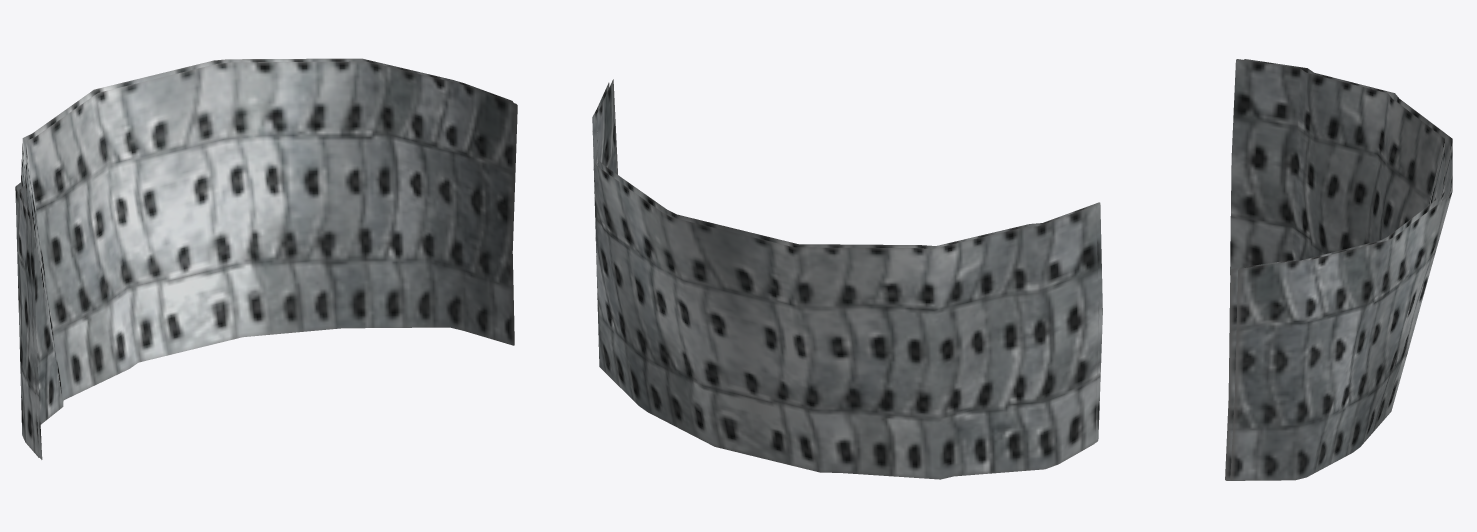
The model's file is per_back_curved.dae.
3 views of the same model, side by side, from view 1: azimuth 30°, elevation 25°; view 2: azimuth 150°, elevation 25°; view 3: azimuth 270°, elevation 25° (orthographic). The views are drawn at different scales.
Visible parts, largest first — view 1: Plane002; view 2: Plane002; view 3: Plane002.
Boxes of the visible parts, x1,y1,x2,y2 form: Plane002: (15,58,517,459); Plane002: (592,79,1102,479); Plane002: (1225,59,1452,480).
Size of the model in its own units: 1.44 by 0.8787 by 0.761.
